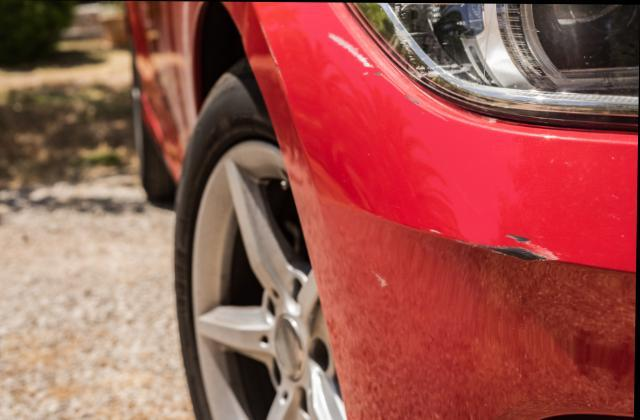scratch: (440, 230, 563, 265), (328, 29, 384, 77)
